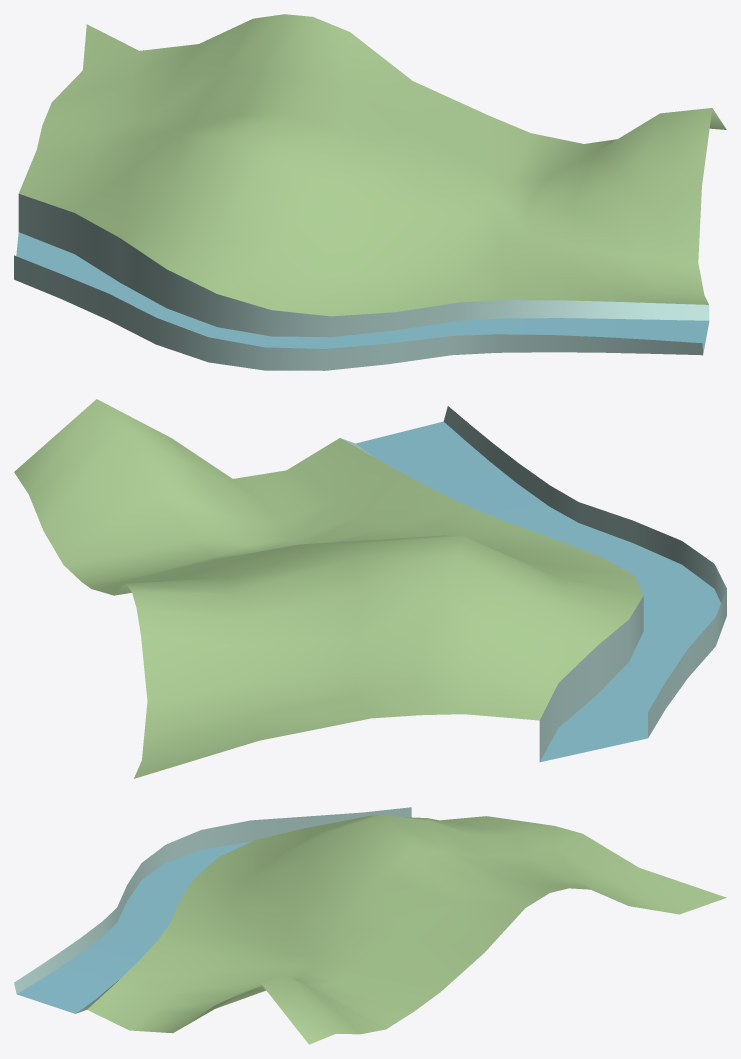
Rendered from level_15.fbx.
3 renders of one model, top to bottom at view 1: azimuth 30°, elevation 25°; view 2: azimuth 150°, elevation 25°; view 3: azimuth 270°, elevation 25°, orthographic. The views are drawn at different scales.
Parts seen in each view (by area): view 1: loc_015; view 2: loc_015; view 3: loc_015.
Part boxes in pixels (<box>): loc_015: <box>14,14,726,370</box>; loc_015: <box>14,399,726,778</box>; loc_015: <box>14,807,726,1044</box>.
Bounding box in the file's own units: 56.46 × 9.83 × 68.25.
